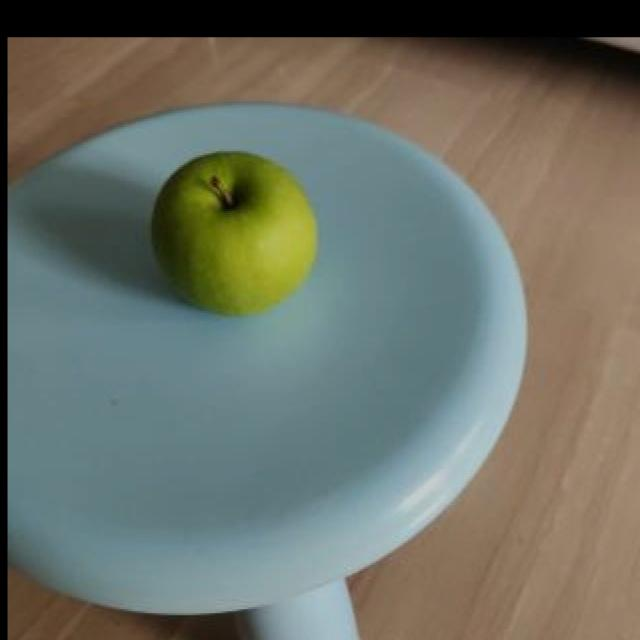green apple: (148, 150, 319, 315)
